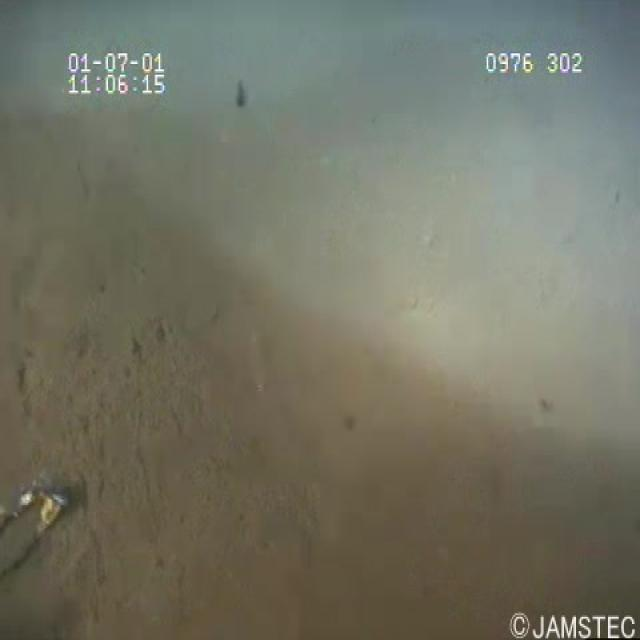plastic: (0, 456, 77, 588)
